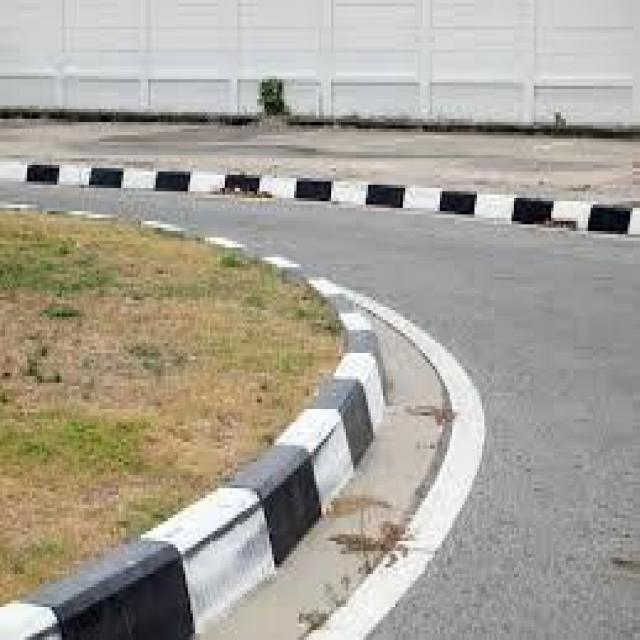curb: (1, 209, 392, 640), (1, 159, 637, 241)
